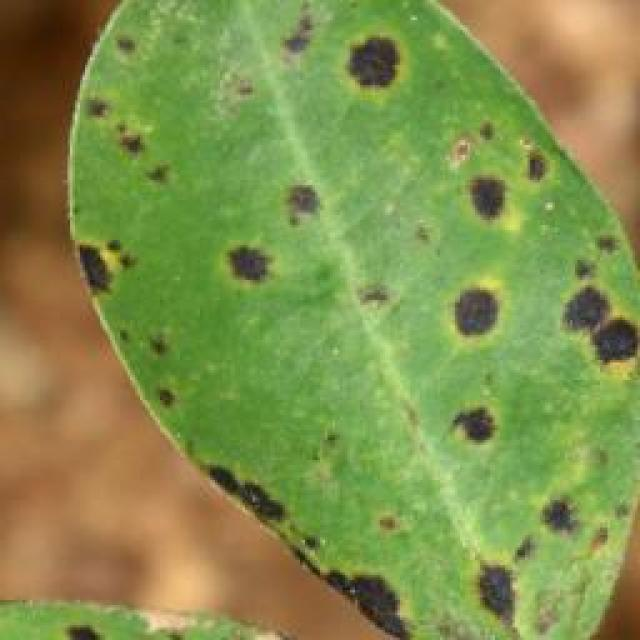Yellowish: (21, 0, 636, 640)
